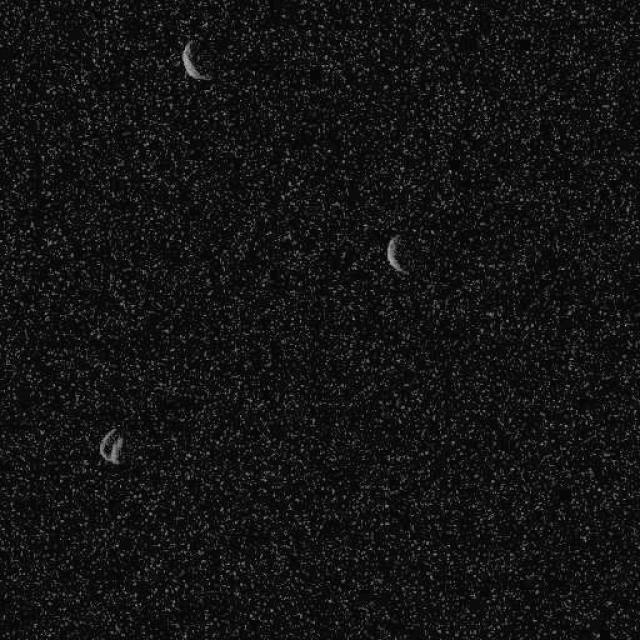D2: (180, 38, 216, 82), (98, 426, 124, 465), (385, 234, 406, 274)
